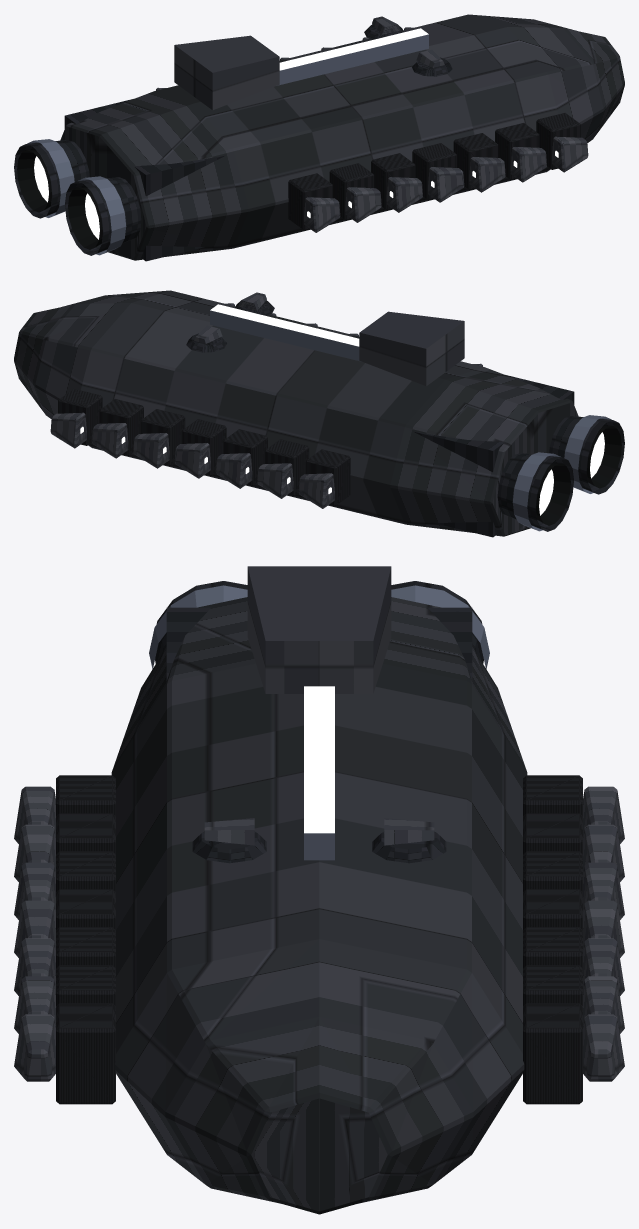
The model's file is troop_transport.glb.
3 views of the same model, one above another, from view 1: azimuth 30°, elevation 25°; view 2: azimuth 150°, elevation 25°; view 3: azimuth 270°, elevation 25° (orthographic). The views are drawn at different scales.
Parts seen in each view (by area): view 1: hull_body, engine_block, sensor_tower, shield_pylons, weapon_turrets; view 2: hull_body, engine_block, sensor_tower, shield_pylons, weapon_turrets; view 3: hull_body, sensor_tower, engine_block, shield_pylons, weapon_turrets.
Part boxes in pixels (bbox=[...]): hull_body: bbox=[60, 14, 624, 260]; engine_block: bbox=[14, 99, 225, 261]; sensor_tower: bbox=[174, 35, 279, 110]; shield_pylons: bbox=[277, 28, 428, 85]; weapon_turrets: bbox=[364, 16, 452, 76]; hull_body: bbox=[14, 290, 578, 536]; engine_block: bbox=[413, 375, 624, 537]; sensor_tower: bbox=[359, 311, 464, 386]; shield_pylons: bbox=[210, 304, 361, 361]; weapon_turrets: bbox=[186, 292, 274, 352]; hull_body: bbox=[14, 597, 624, 1214]; sensor_tower: bbox=[247, 566, 391, 693]; engine_block: bbox=[149, 581, 489, 680]; shield_pylons: bbox=[304, 686, 334, 860]; weapon_turrets: bbox=[192, 818, 446, 863].
Size of the model in its own units: 52 by 16.07 by 26.66.
Materials: 1 (1 with a texture image).
